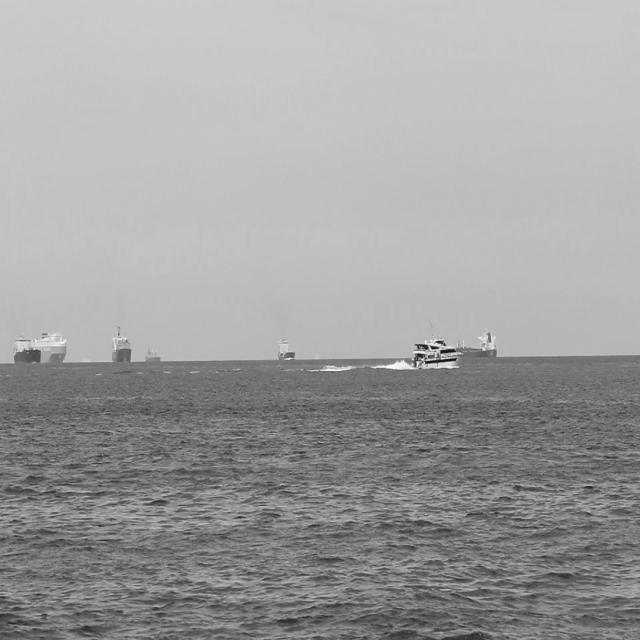ship: (394, 335, 462, 371), (5, 330, 65, 362), (452, 325, 495, 360), (111, 317, 130, 365), (10, 336, 38, 364), (272, 329, 293, 357), (141, 338, 159, 363)
